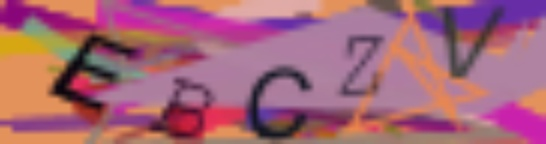B: (146, 77, 217, 140)
C: (244, 65, 314, 142)
E: (45, 32, 138, 114)
V: (440, 6, 509, 81)
Z: (336, 30, 386, 100)
